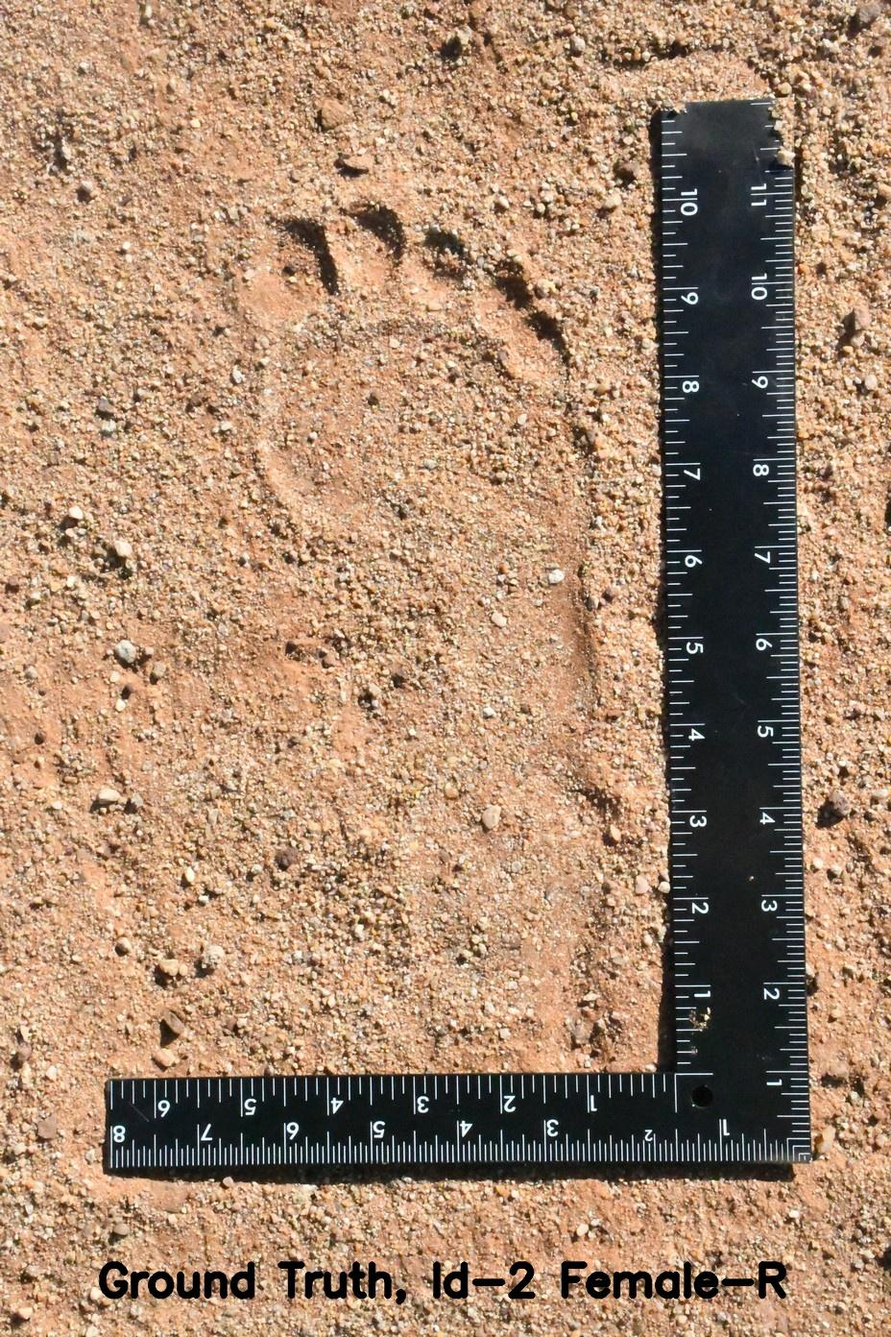human_foot_print: (218, 183, 621, 1059)
